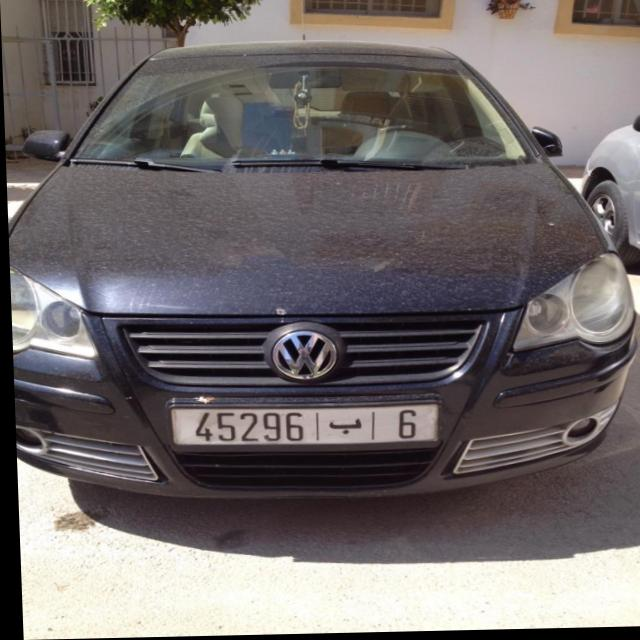License-Plate: (169, 406, 435, 447)
